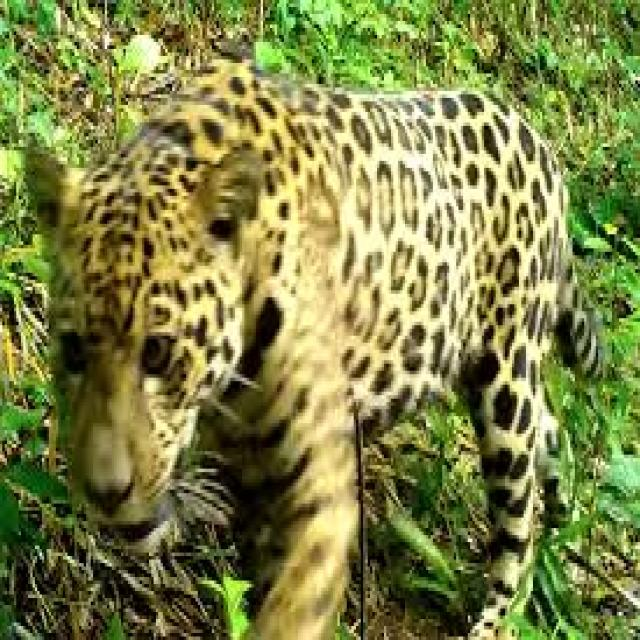Jaguar: (26, 59, 586, 640)
